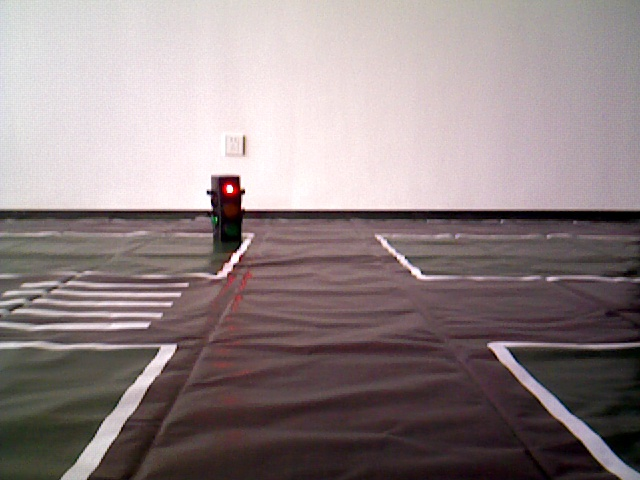red: (213, 178, 240, 244)
